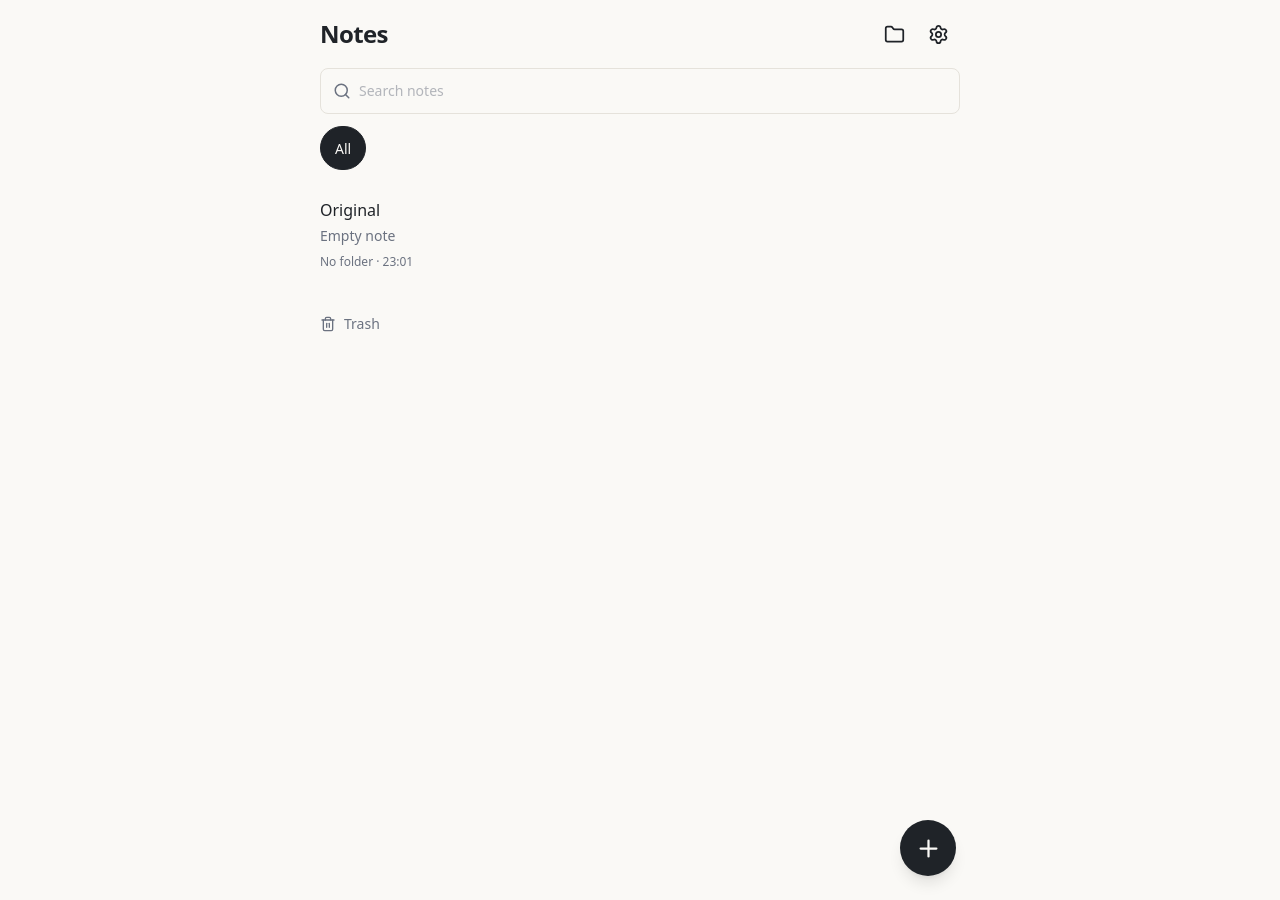
it: shows persistent save failure, keeps the editor open, and retries before navigation
Expected: the button named "+ New note" is enabled, [900,820,956,876]
Click the button "Original Empty note No folder · 23:01". click: (350, 210)
box: [320,182,960,286]
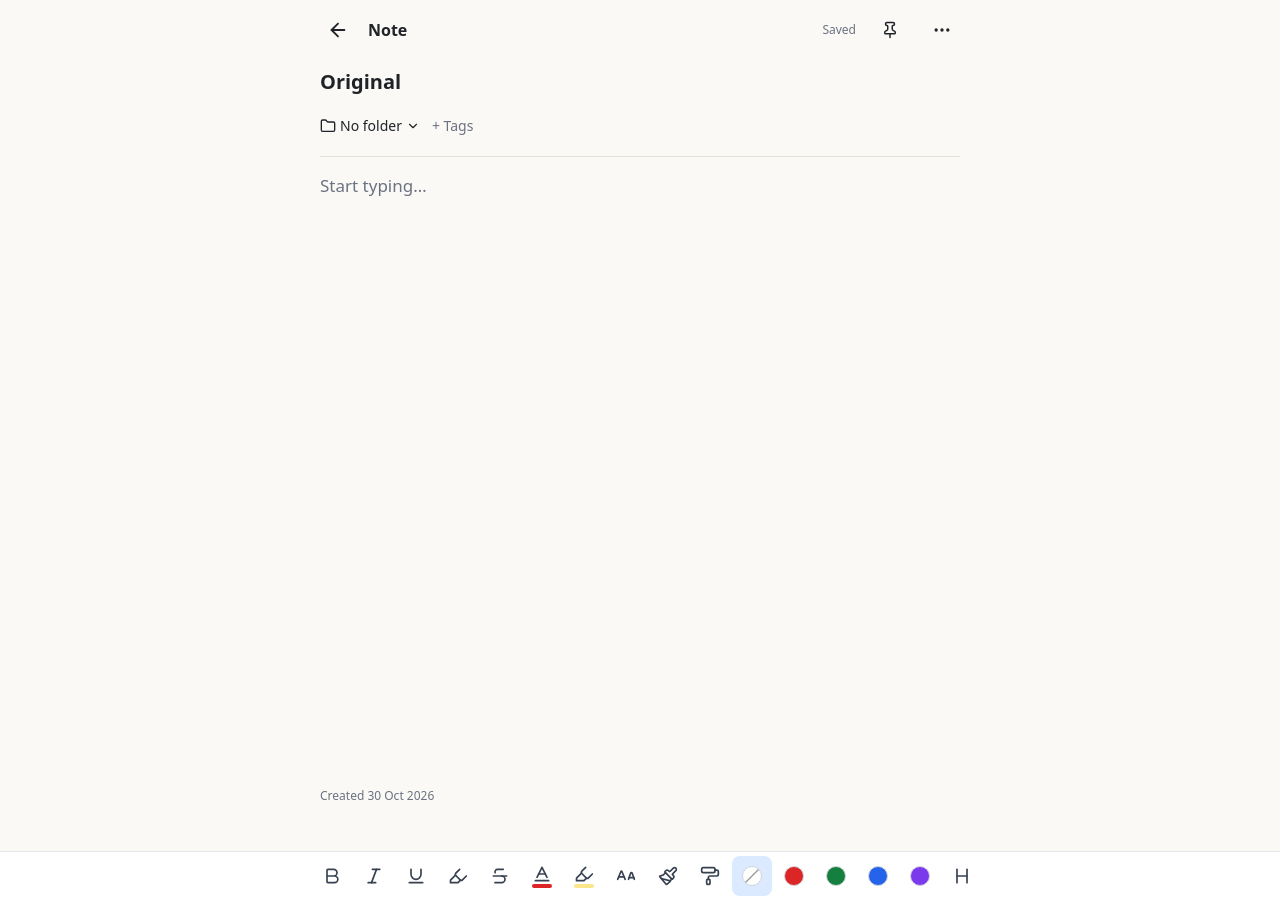
Expected: the button named "Back" is enabled, [316,8,360,52]
Expected: the field named "Title" is shown
Replace the text in the field named "Title" with "Unsaved title". click: (640, 82)
box: [320,60,960,104]
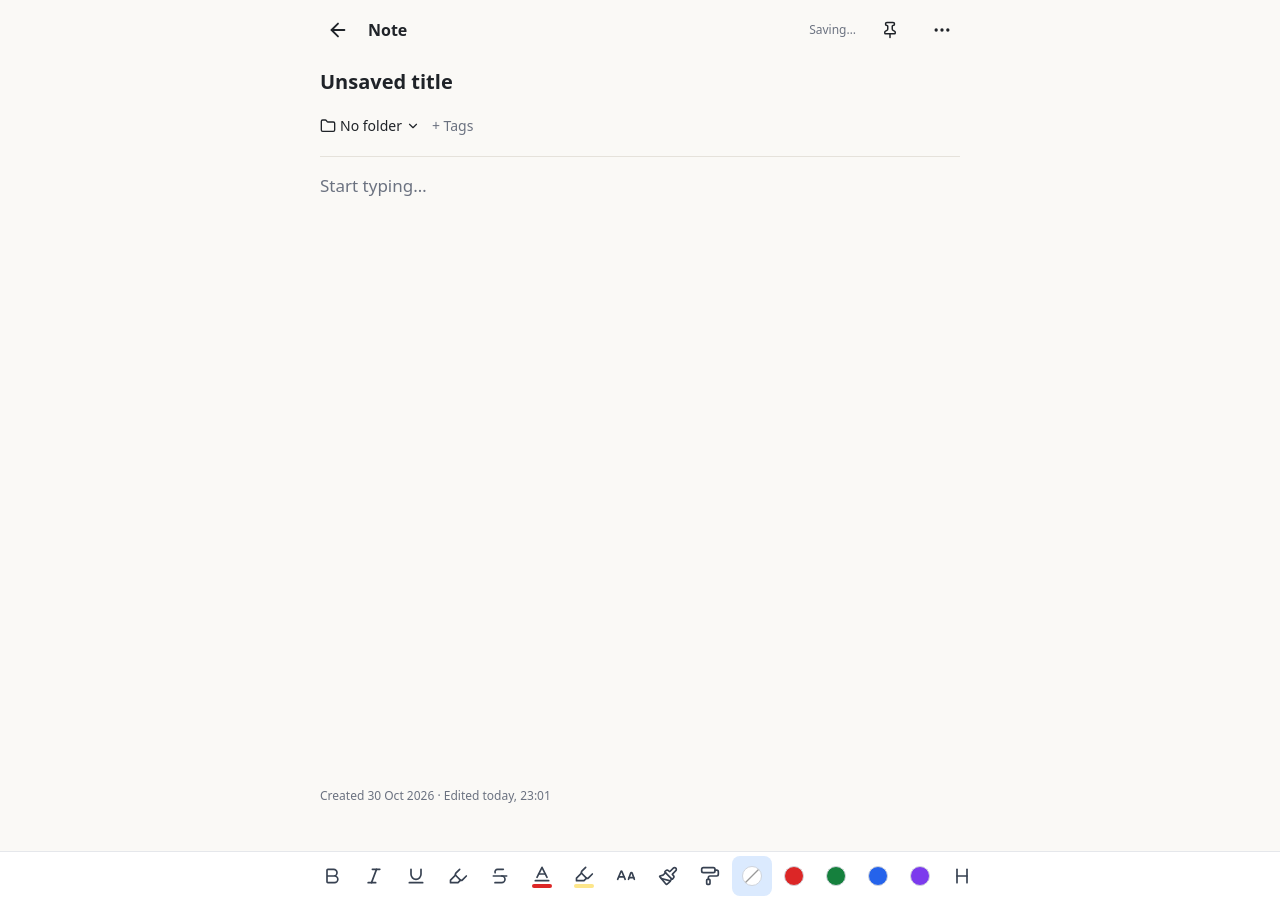
Click the button named "Back". click: (338, 30)
box: [316,8,360,52]
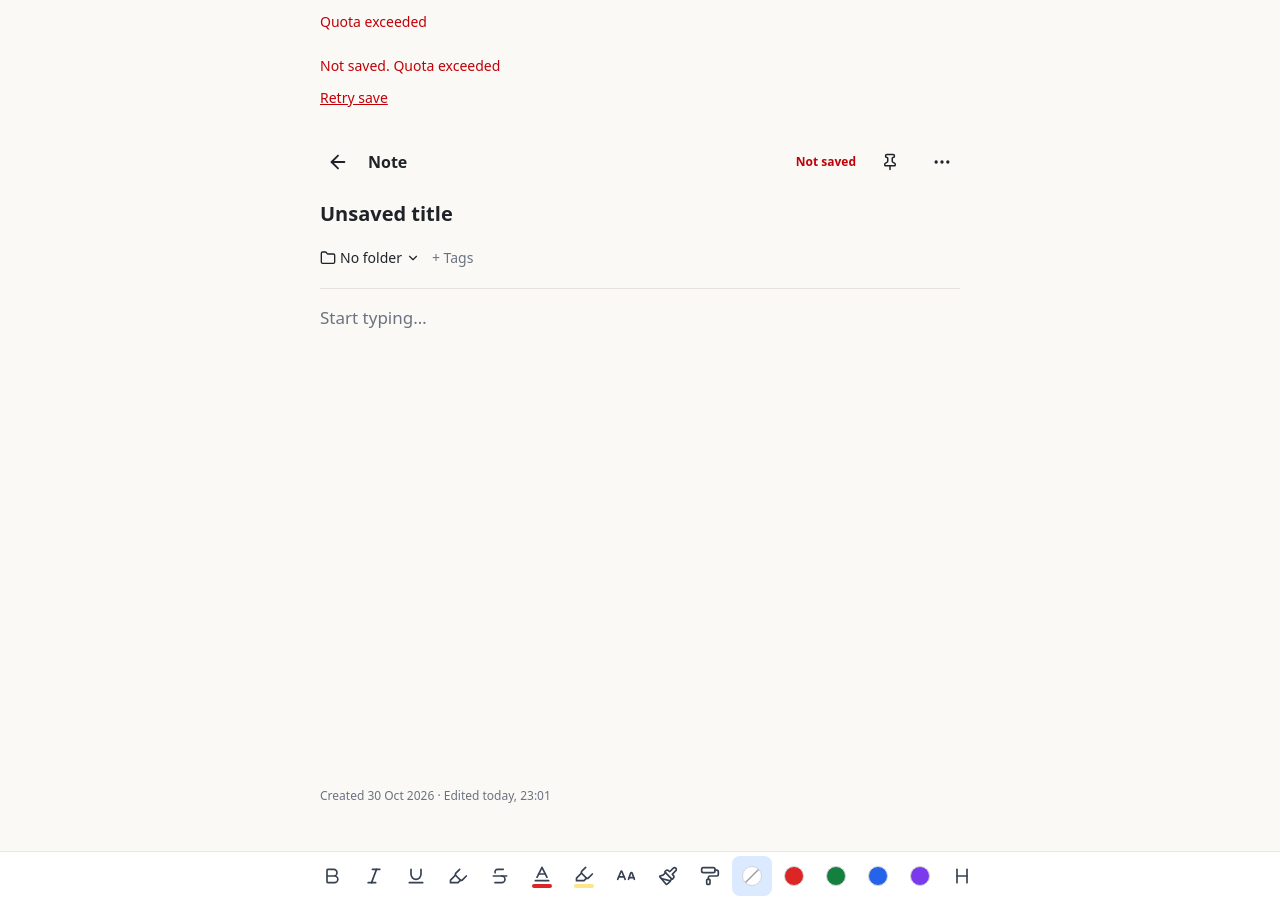
Expected: the text "Not saved" is shown, [796,154,860,170]
Expected: the button "Retry save" is enabled
Click the button "Retry save". click: (354, 98)
box: [320,76,388,120]
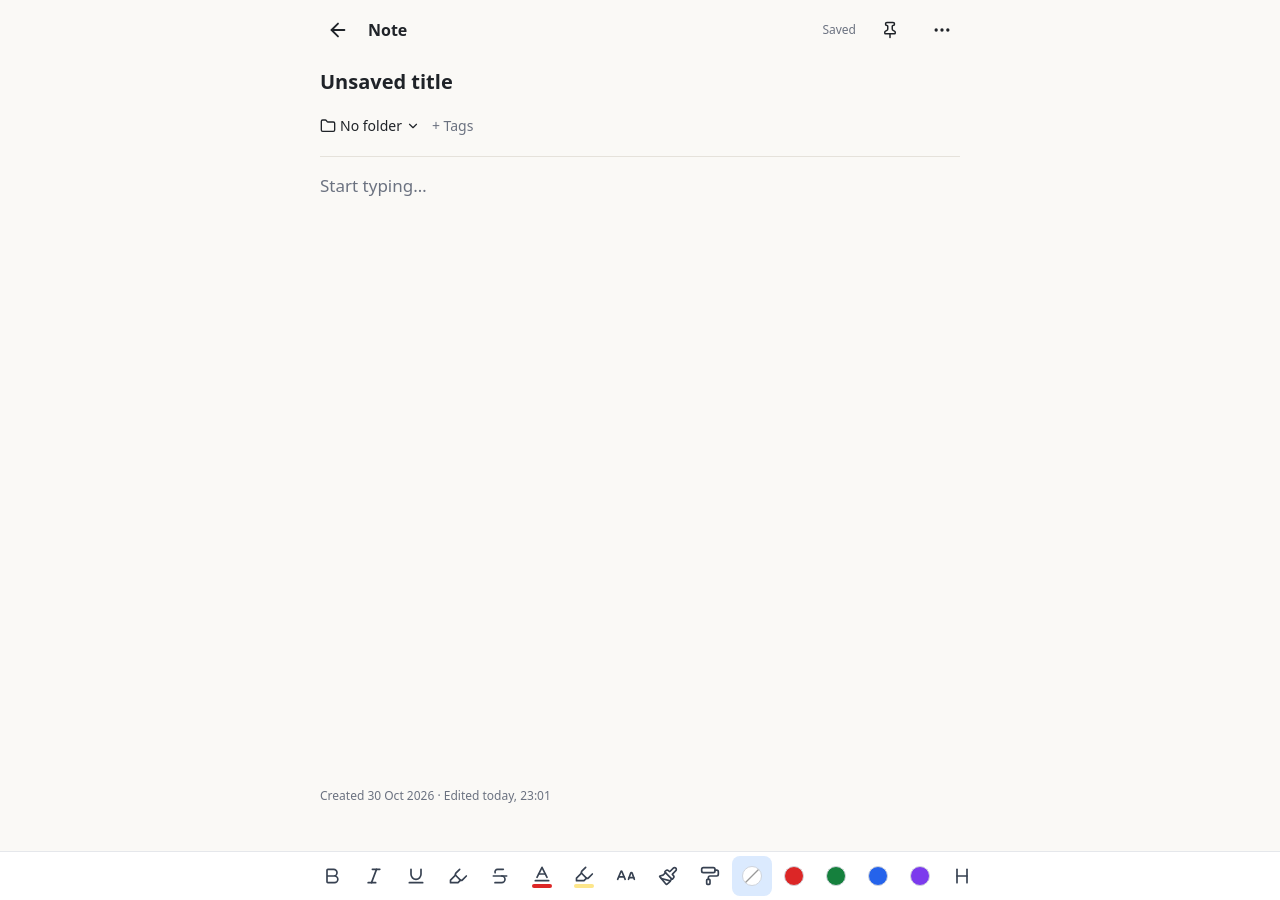
Expected: the text "Not saved" is gone
Click the button named "Back". click: (338, 30)
box: [316,8,360,52]
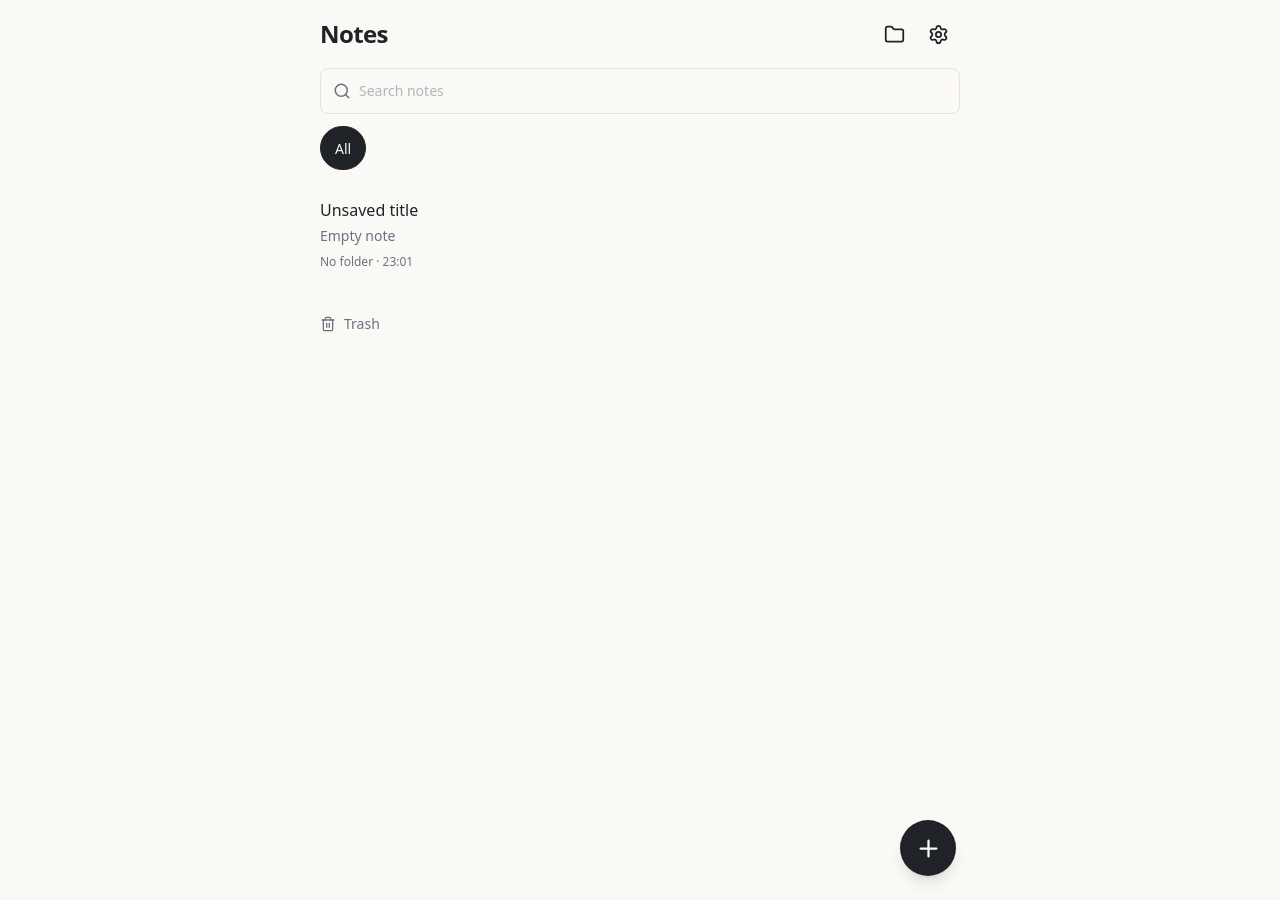
Expected: the button named "+ New note" is shown, [900,820,956,876]
Expected: the text "Unsaved title" is shown, [320,199,418,221]
